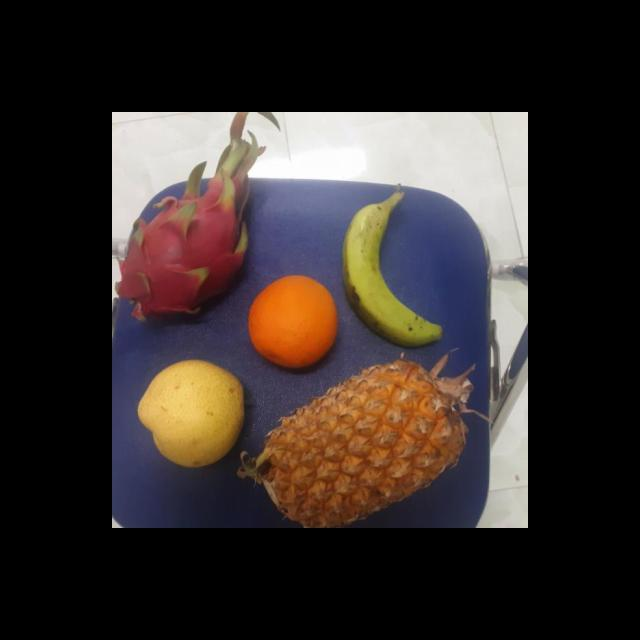banana: (344, 197, 439, 355)
orange: (247, 276, 342, 368)
pear: (134, 361, 253, 470)
pineapple: (260, 360, 477, 528)
pitaya: (122, 180, 256, 324)
